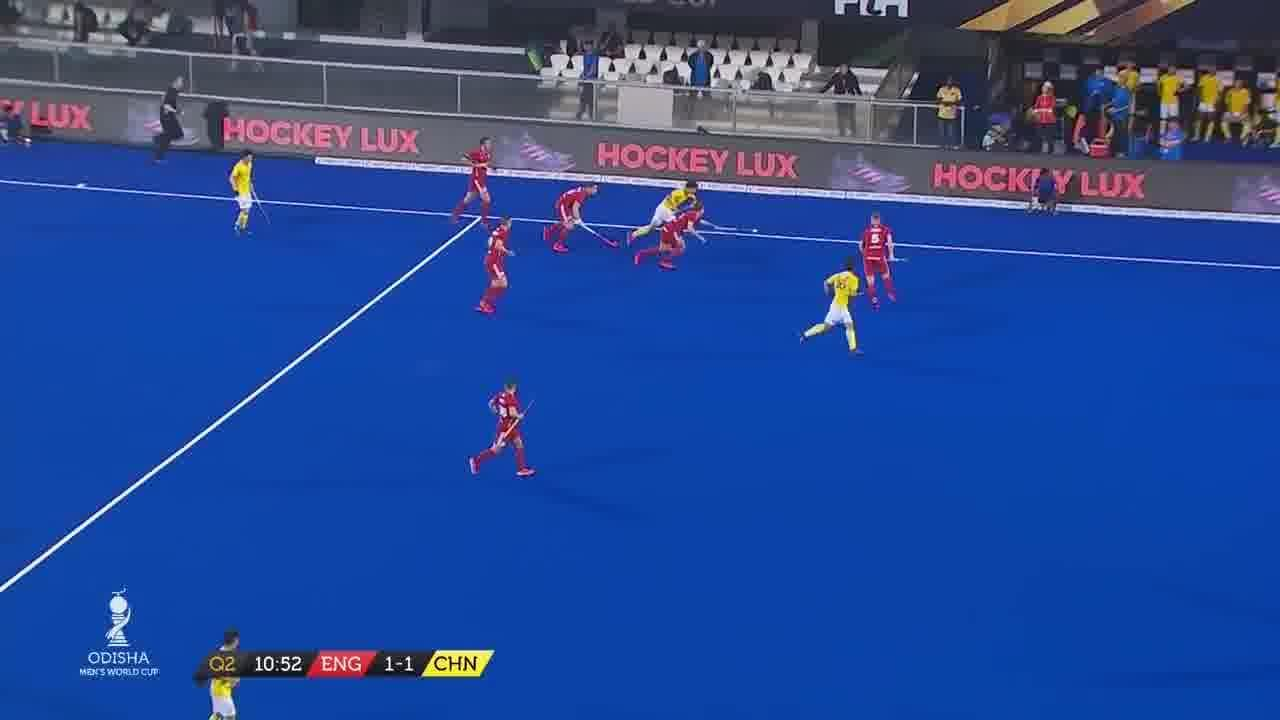ball: (751, 222, 762, 237)
